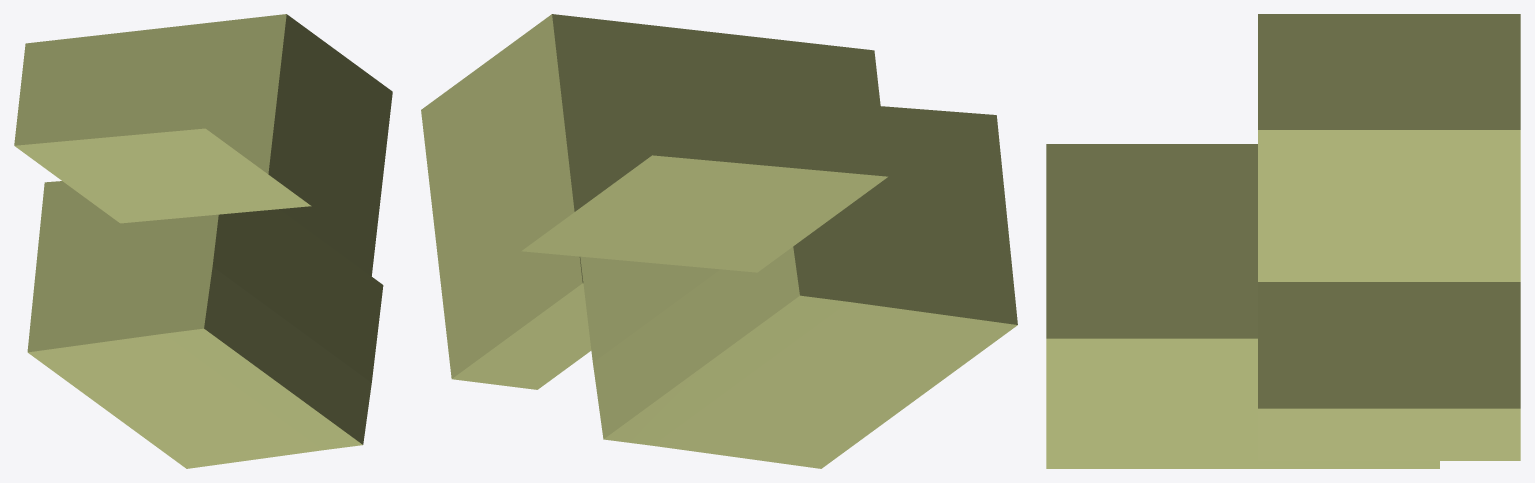
3 views of the same model, side by side, from view 1: azimuth 30°, elevation 25°; view 2: azimuth 150°, elevation 25°; view 3: azimuth 270°, elevation 25° (orthographic). The views are drawn at different scales.
Parts seen in each view (by area): view 1: 0_1_2_0_1_3_0_2_3_0_2; view 2: 0_1_2_0_1_3_0_2_3_0_2; view 3: 0_1_2_0_1_3_0_2_3_0_2.
Part boxes in pixels (left/top/right/bottom): 0_1_2_0_1_3_0_2_3_0_2: left=14, top=14, right=392, bottom=468; 0_1_2_0_1_3_0_2_3_0_2: left=421, top=14, right=1017, bottom=468; 0_1_2_0_1_3_0_2_3_0_2: left=1046, top=14, right=1520, bottom=468.
Size of the model in its own units: 9.52 by 9.26 by 10.84.
